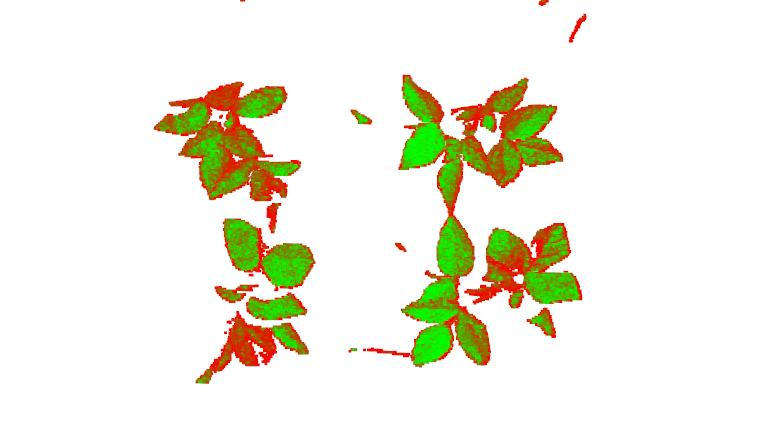mungbean: (396, 213, 590, 367), (393, 65, 570, 215), (147, 75, 305, 214), (191, 215, 311, 387)
